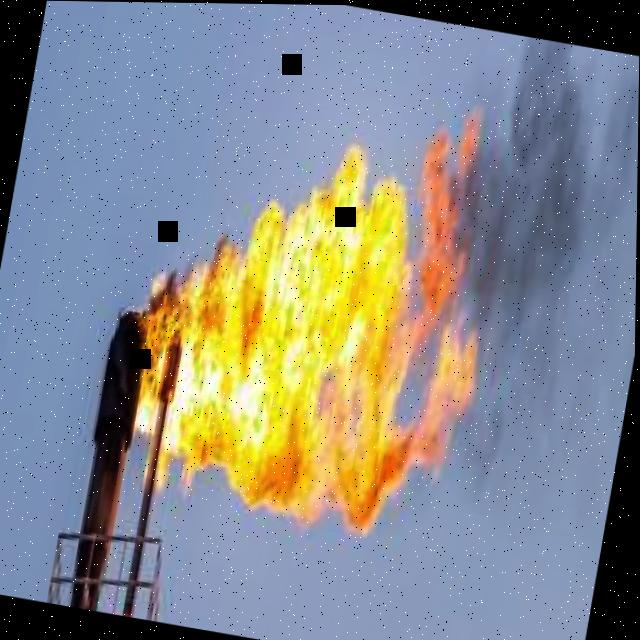fire: (134, 91, 484, 538)
smoke: (435, 35, 639, 496)
